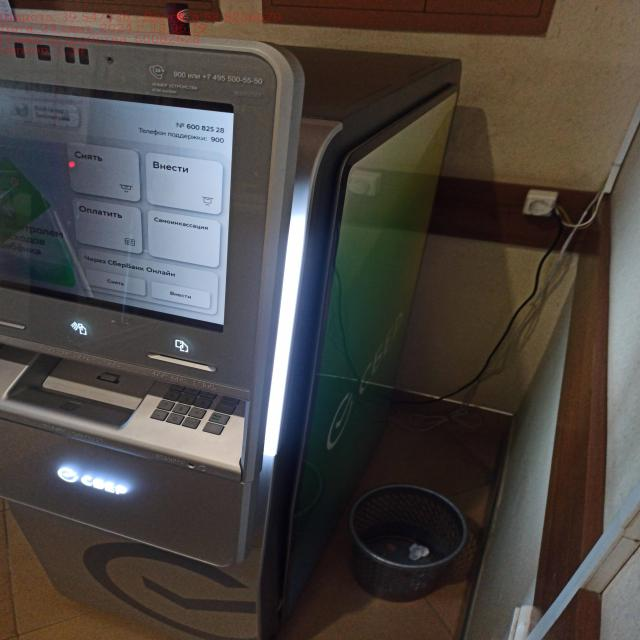bank: (0, 25, 470, 640)
